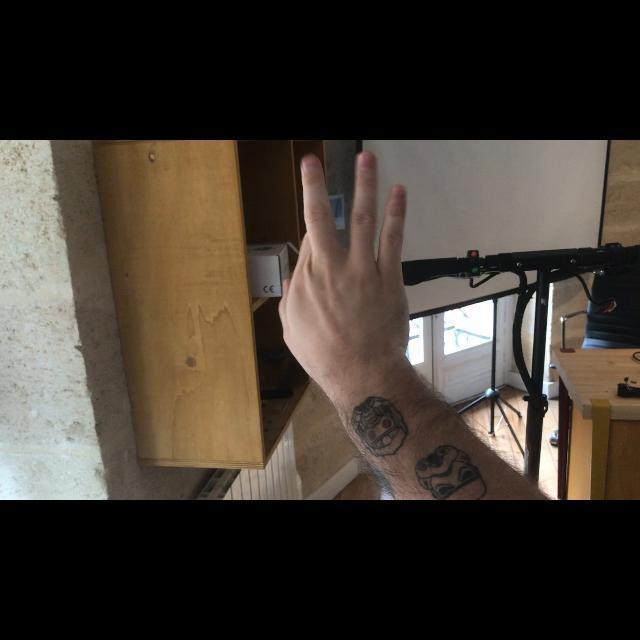bare_hand: (276, 152, 410, 370)
